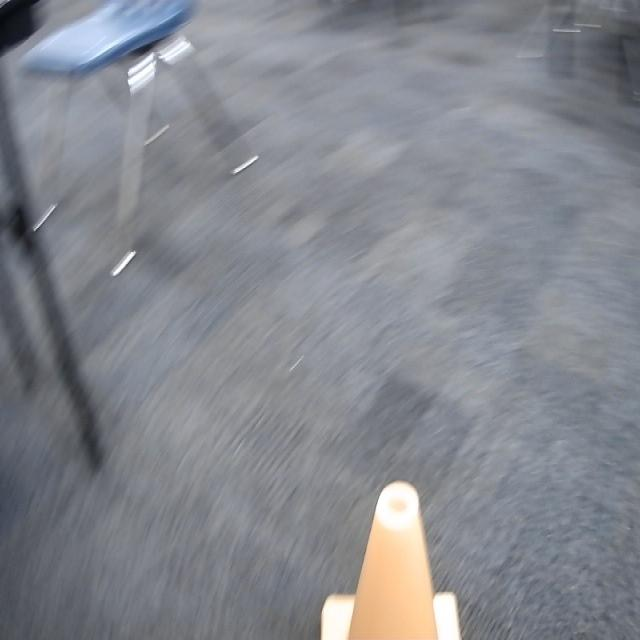cone: (323, 478, 466, 640)
